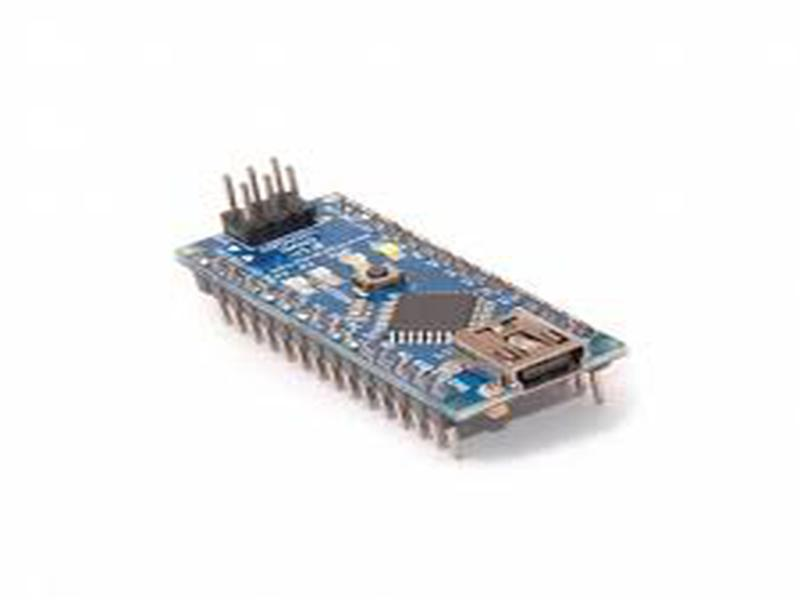Arduino_Nano: (164, 163, 632, 467)
